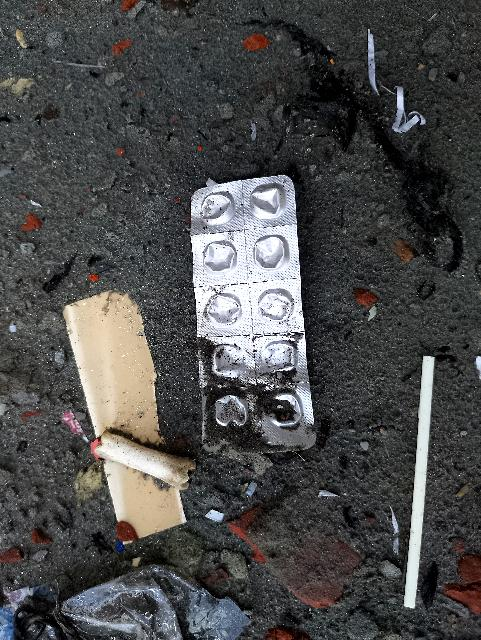medicine: (186, 180, 316, 456)
